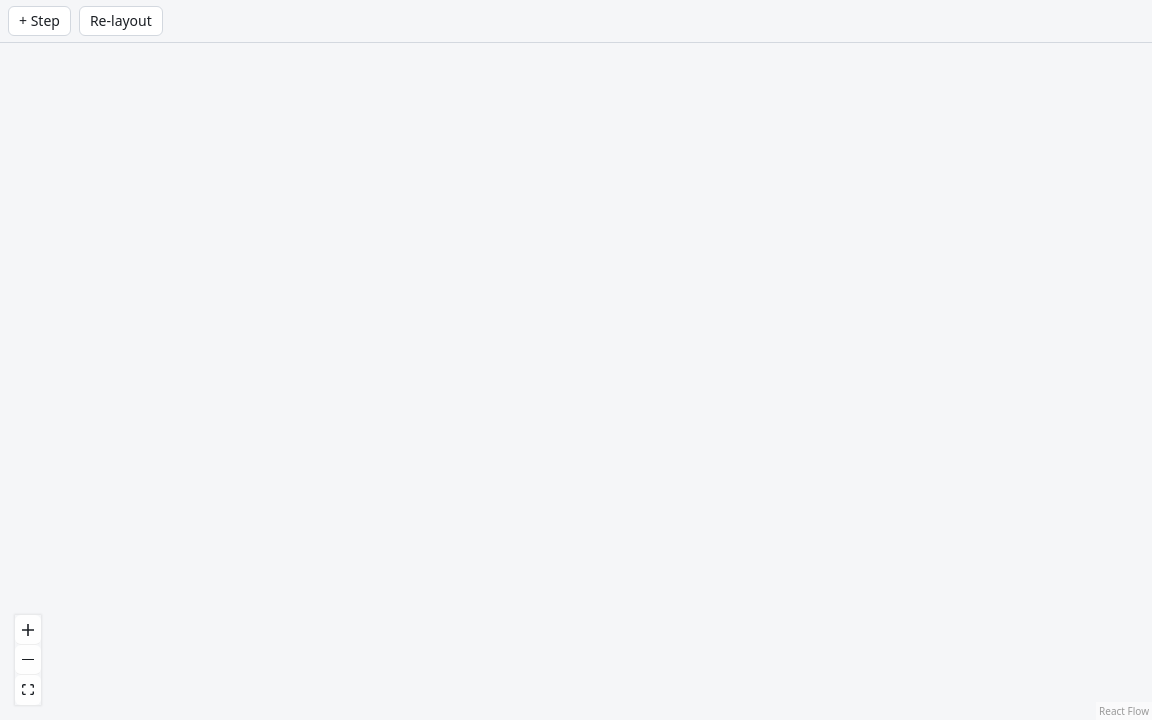
Test: GraphEditor › rejects an invalid or duplicate step name
Click the button "+ Step": {"x": 39, "y": 21} [8,6,71,36]
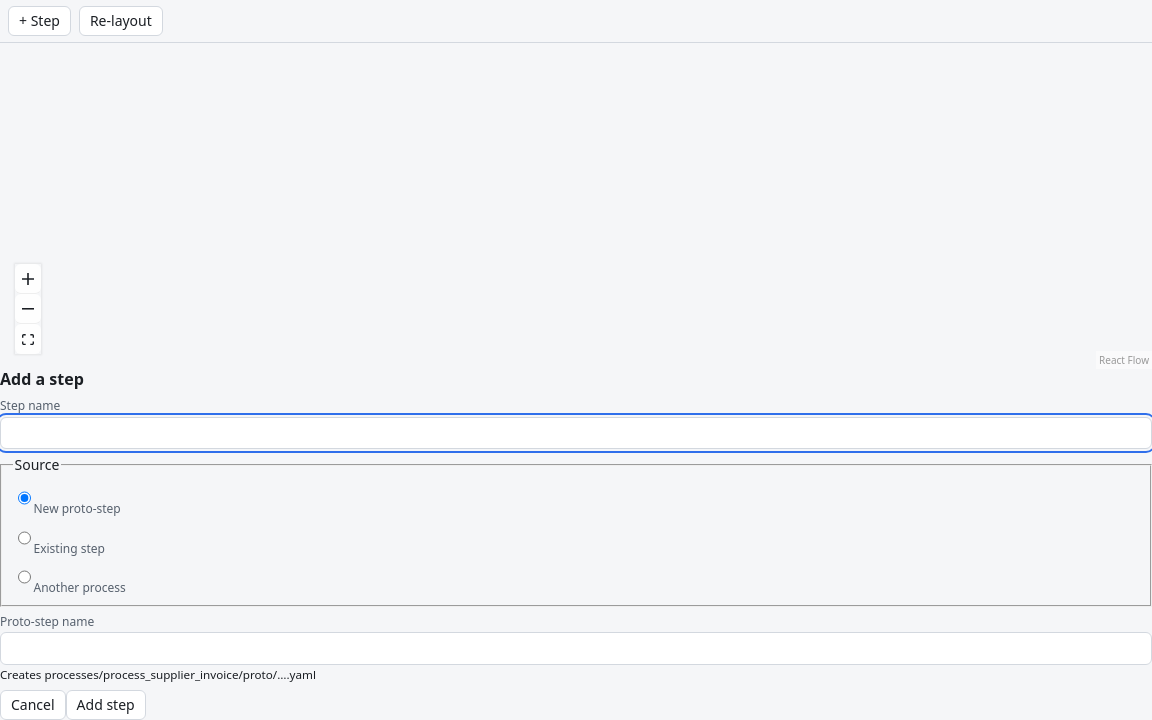
In the field labelled "Step name": {"x": 576, "y": 433} [0,417,1151,449], type "fix"
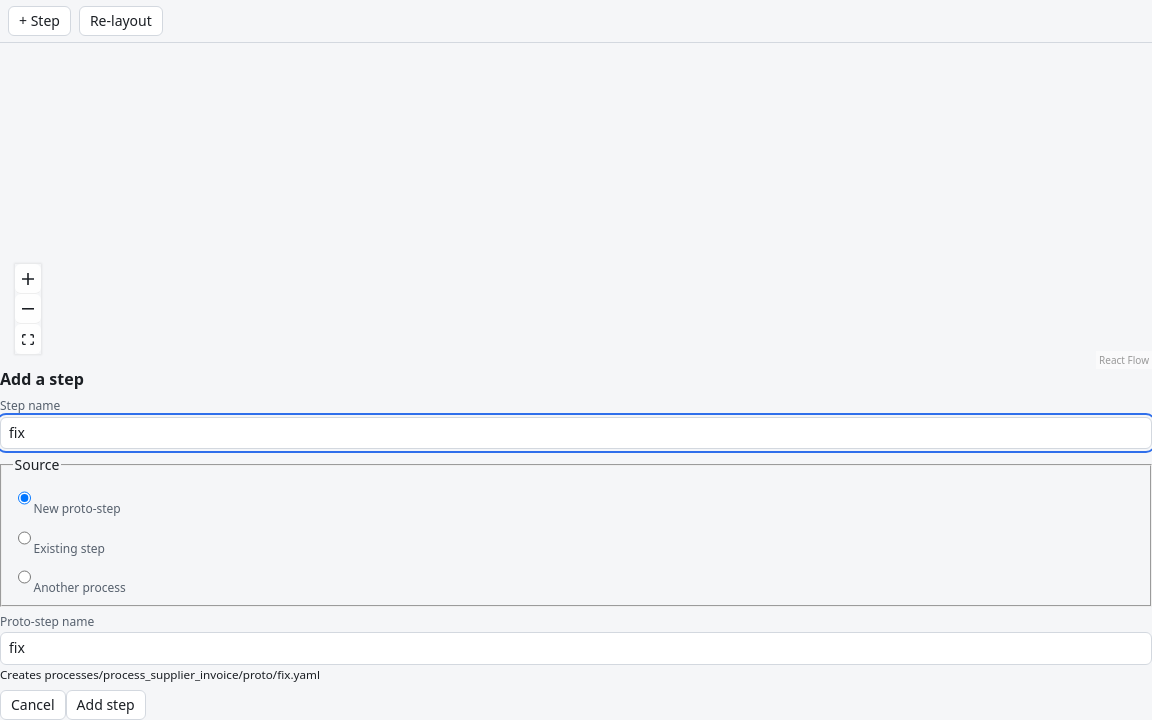
Click the button "Add step": {"x": 106, "y": 705} [66,690,146,719]
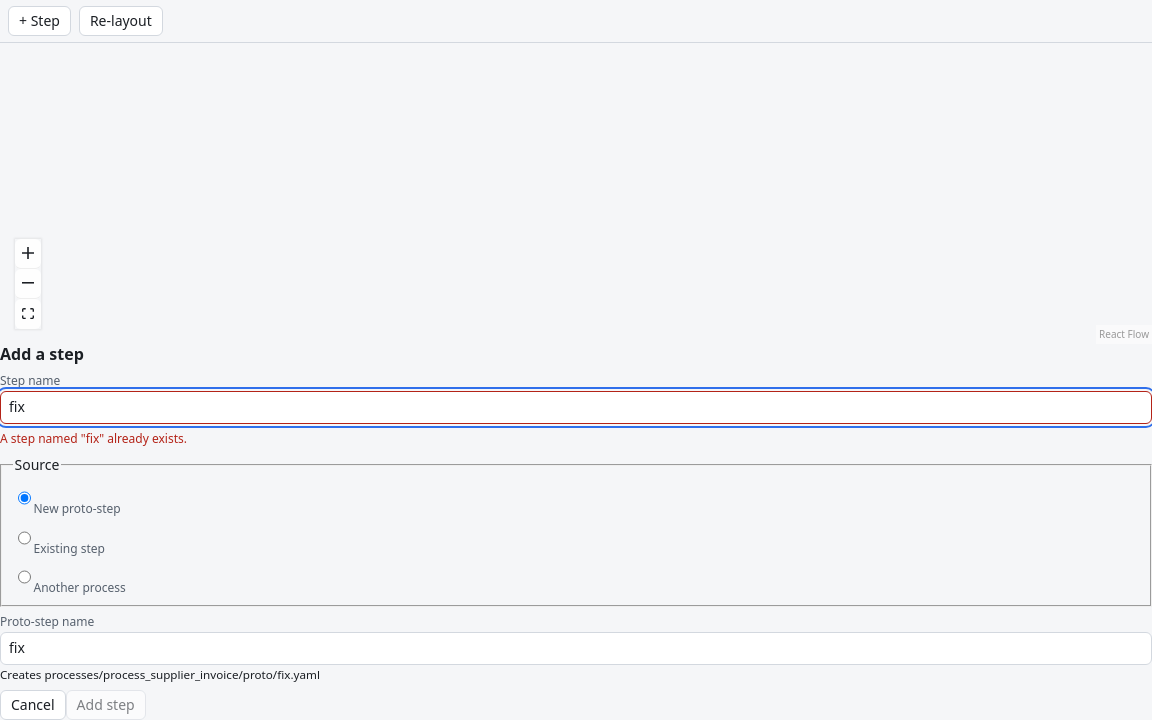
expect the dialog "Add a step" shows "A step named \"fix\" already exists.": met, box [0,430,187,447]
